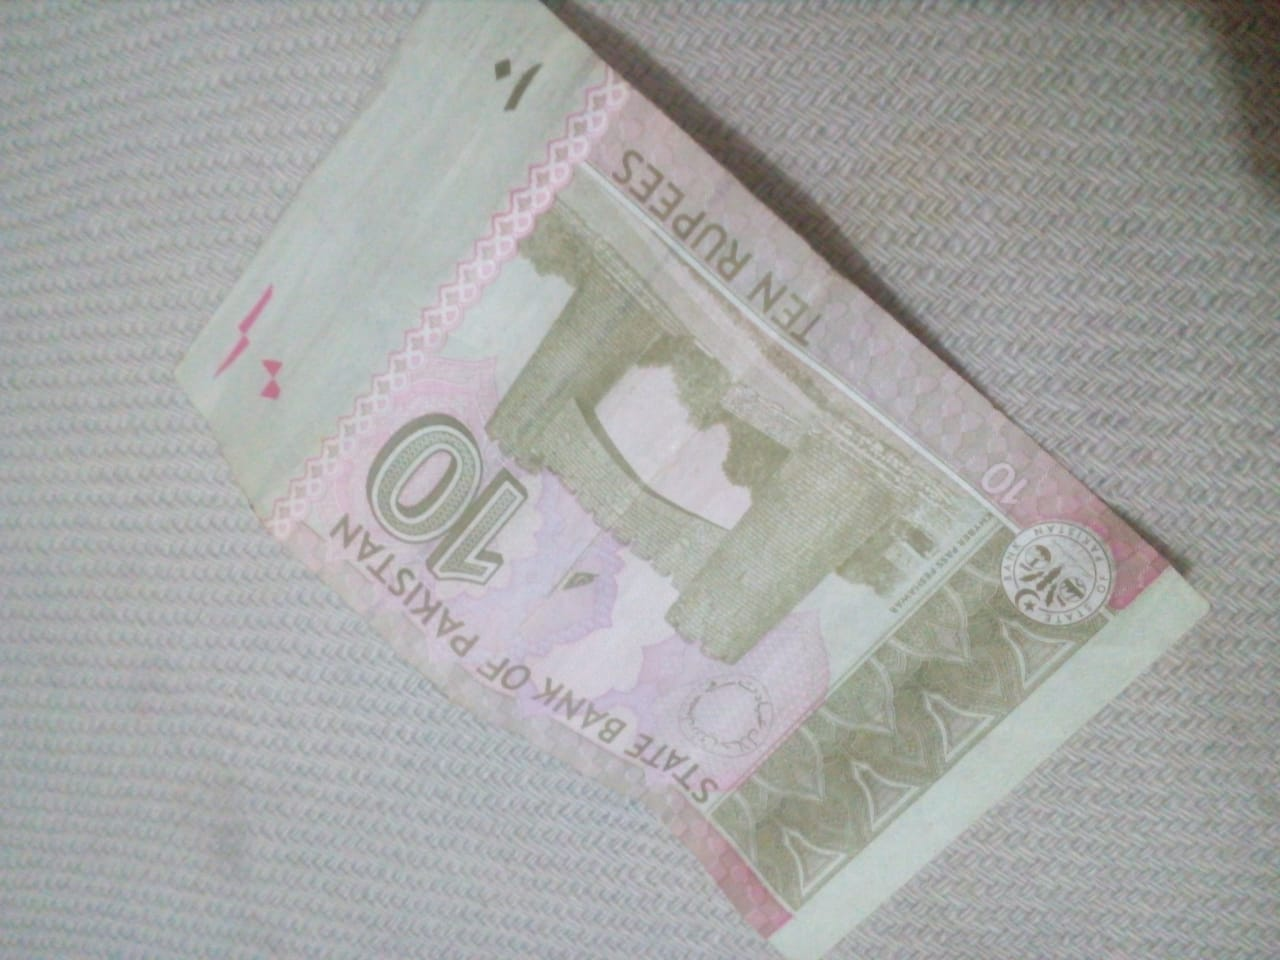10 rupee: (170, 0, 1214, 960)
